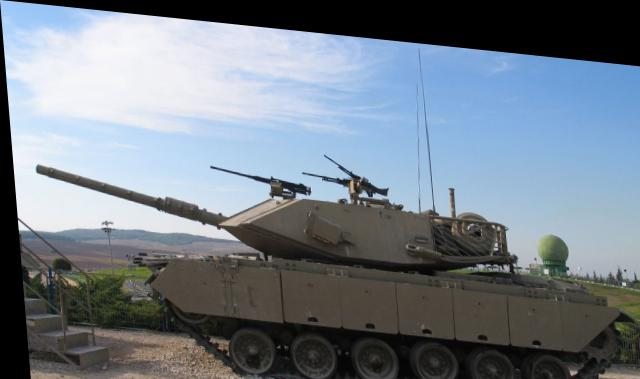tank: (130, 145, 628, 378)
